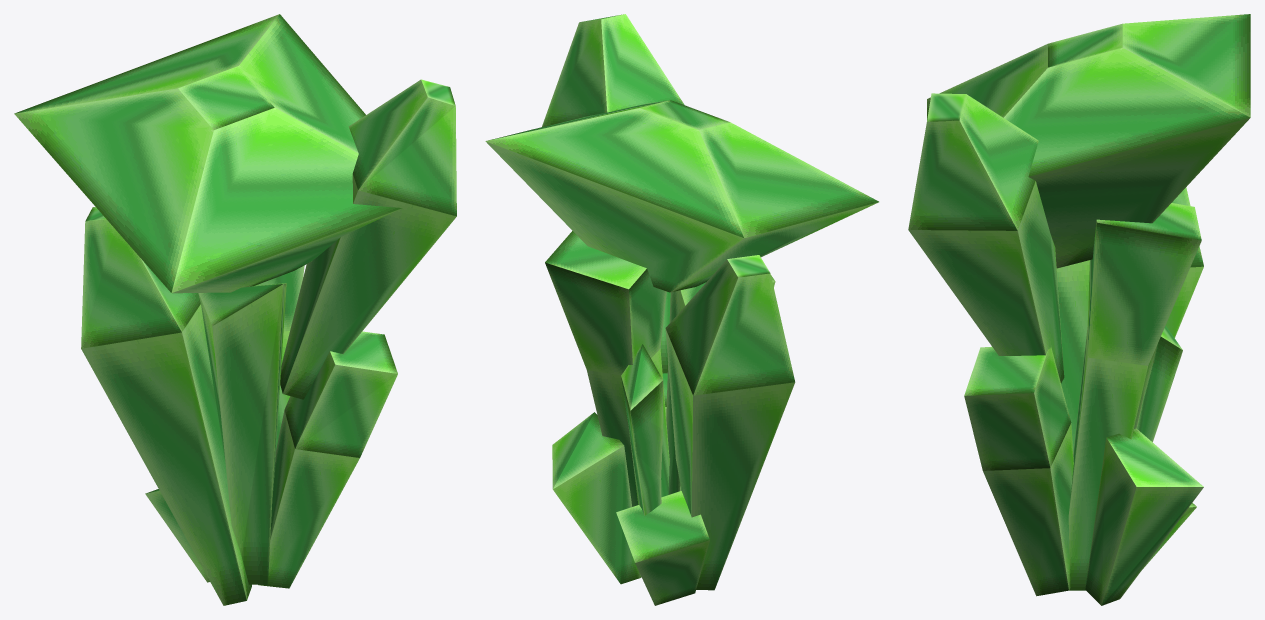
The model's file is cavecrystal-lod1.glb.
The picture shows the model from 3 angles, left to right: view 1: azimuth 30°, elevation 25°; view 2: azimuth 150°, elevation 25°; view 3: azimuth 270°, elevation 25°; orthographic projection. The views are drawn at different scales.
Parts seen in each view (by area): view 1: cavecrystal-lod1; view 2: cavecrystal-lod1; view 3: cavecrystal-lod1.
Boxes of the visible parts, left/top/right/bottom form: cavecrystal-lod1: left=14, top=14, right=456, bottom=605; cavecrystal-lod1: left=485, top=14, right=878, bottom=605; cavecrystal-lod1: left=908, top=14, right=1250, bottom=605.
Bounding box in the file's own units: 5.49 × 8.63 × 4.72.
Materials: 1 (1 with a texture image).
